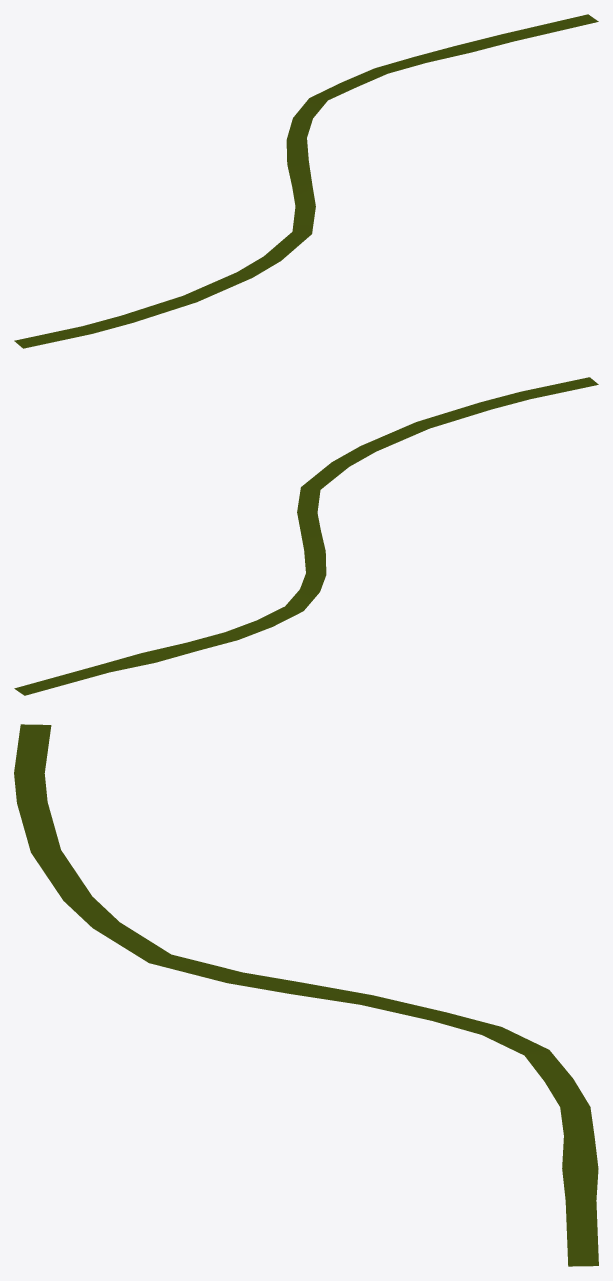
Rendered from water.fbx.
The picture shows the model from 3 angles, top to bottom: view 1: azimuth 30°, elevation 25°; view 2: azimuth 210°, elevation 25°; view 3: azimuth 270°, elevation 25°; orthographic projection. The views are drawn at different scales.
Visible parts, largest first — view 1: Plane.085; view 2: Plane.085; view 3: Plane.085.
Boxes of the visible parts, box(x1,y1,x2,y2) form: Plane.085: box(14, 14, 598, 348); Plane.085: box(14, 377, 598, 695); Plane.085: box(14, 724, 598, 1266).
Size of the model in its own units: 10988 by 140 by 4906.
